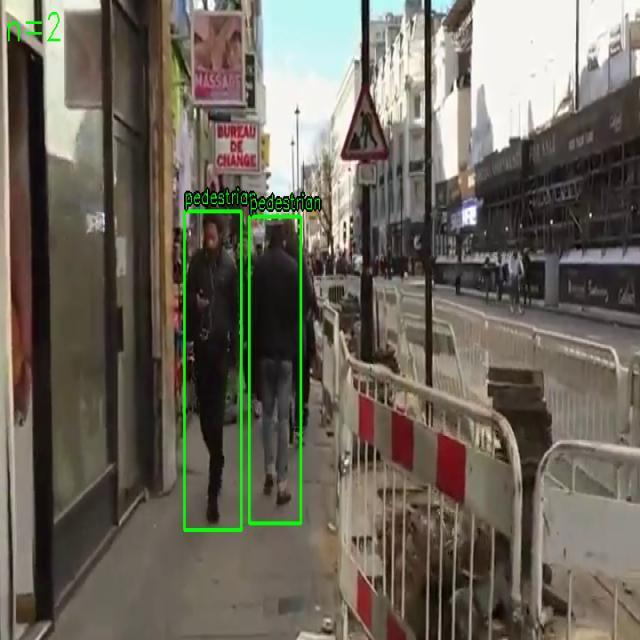person: (184, 210, 242, 530), (248, 216, 302, 524)
